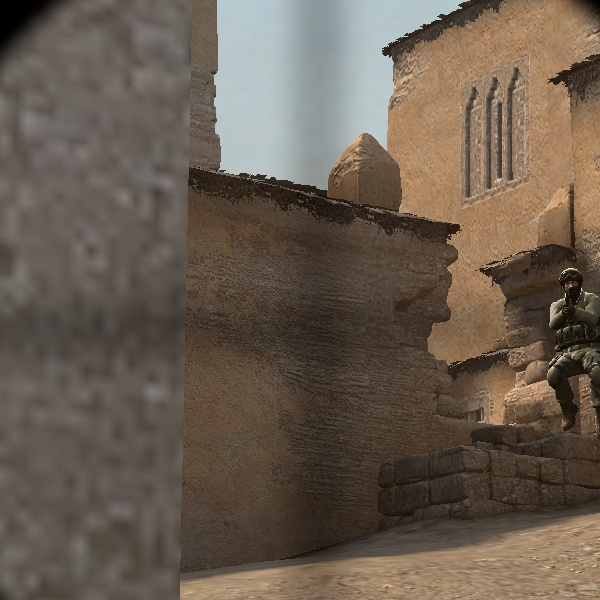ct_body: (521, 264, 600, 437)
ct_head: (552, 267, 588, 303)
